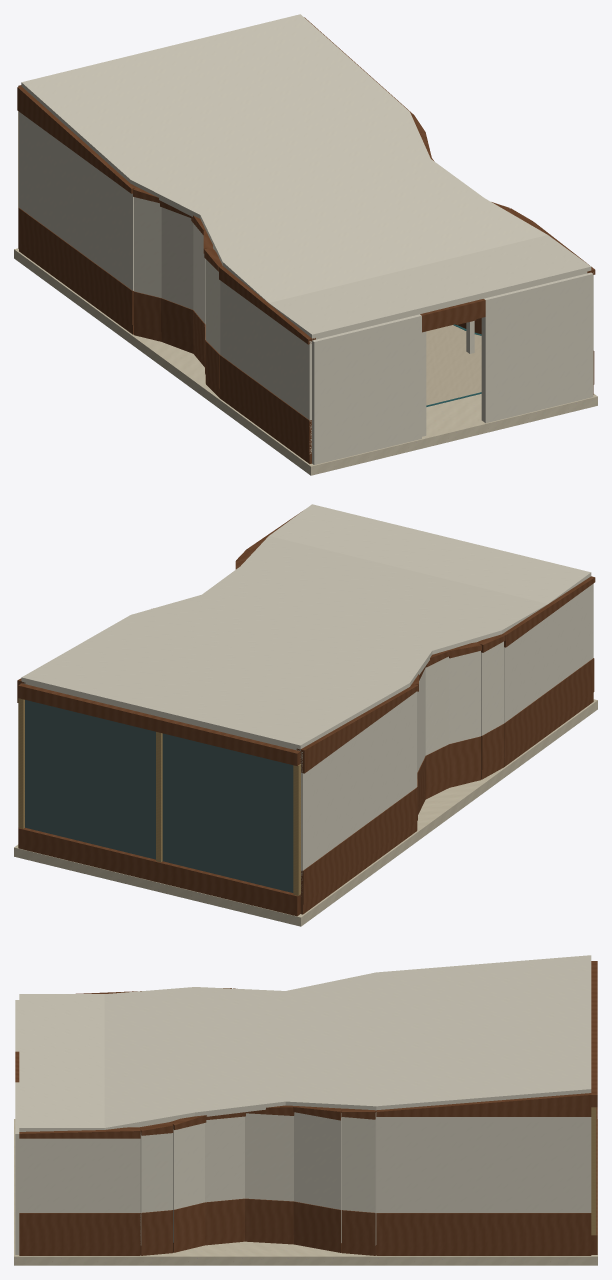
The model's file is shell.glb.
3 views of the same model, one above another, from view 1: azimuth 30°, elevation 25°; view 2: azimuth 150°, elevation 25°; view 3: azimuth 270°, elevation 25° (orthographic).
Visible parts, largest first — view 1: NG_Runtime_ivory_enamel, NG_Runtime_warm_walnut, NG_Runtime_warm_stone, NG_Runtime_oatmeal_weave; view 2: NG_Runtime_ivory_enamel, NG_Runtime_NG_SourceDirectionalPrivacy_NOT_RUNTIME_ACCEPTED, NG_Runtime_warm_walnut, NG_Runtime_warm_stone, NG_Runtime_champagne_metal; view 3: NG_Runtime_ivory_enamel, NG_Runtime_warm_walnut, NG_Runtime_warm_stone, NG_Runtime_champagne_metal.
Part boxes in pixels (x1,y1,x2,y2): NG_Runtime_ivory_enamel: (19, 14, 593, 464); NG_Runtime_warm_walnut: (17, 17, 595, 463); NG_Runtime_warm_stone: (14, 248, 597, 475); NG_Runtime_oatmeal_weave: (426, 325, 481, 405); NG_Runtime_ivory_enamel: (21, 504, 593, 885); NG_Runtime_NG_SourceDirectionalPrivacy_NOT_RUNTIME_ACCEPTED: (25, 700, 293, 892); NG_Runtime_warm_walnut: (17, 511, 595, 916); NG_Runtime_warm_stone: (14, 699, 597, 926); NG_Runtime_champagne_metal: (18, 698, 300, 895); NG_Runtime_ivory_enamel: (15, 955, 591, 1254); NG_Runtime_warm_walnut: (15, 961, 597, 1255); NG_Runtime_warm_stone: (14, 1119, 597, 1265); NG_Runtime_champagne_metal: (591, 1107, 596, 1235).
Size of the model in its own units: 7.2 by 4.26 by 12.9.
Materials: 9 (7 with a texture image).
